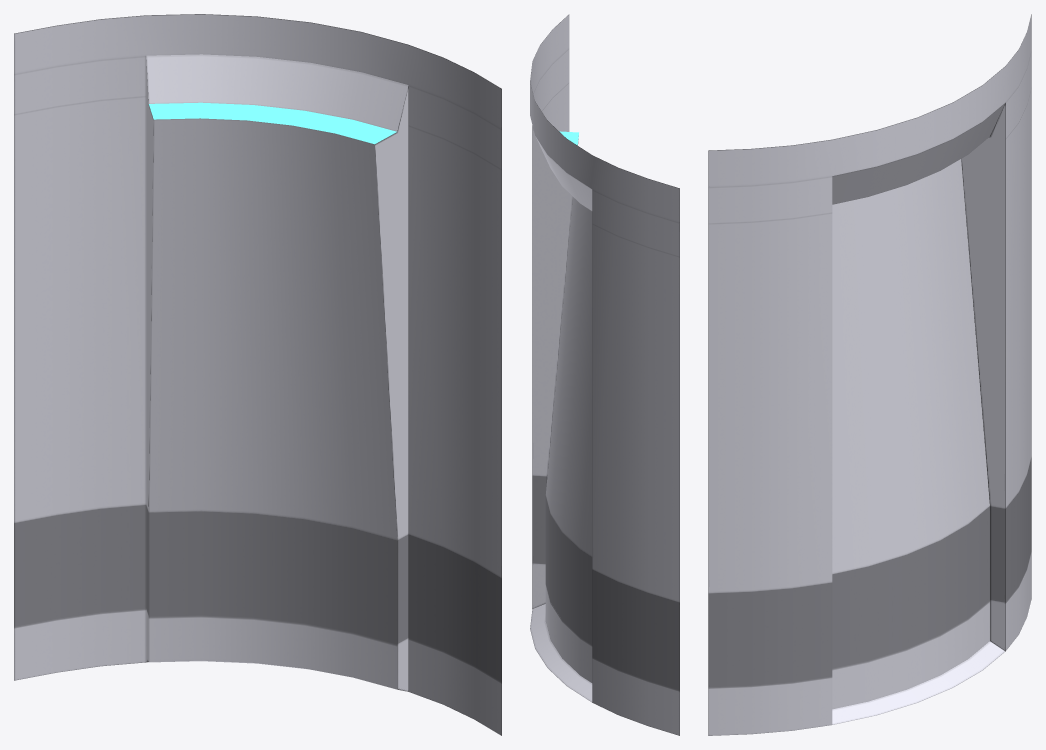
Rendered from Wall_HalfArc_90_02.FBX.
3 renders of one model, left to right at view 1: azimuth 30°, elevation 25°; view 2: azimuth 150°, elevation 25°; view 3: azimuth 270°, elevation 25°, orthographic. The views are drawn at different scales.
Visible parts, largest first — view 1: Wall_HalfArc_90_02; view 2: Wall_HalfArc_90_02; view 3: Wall_HalfArc_90_02.
Boxes of the visible parts, <box> form: Wall_HalfArc_90_02: <box>14,14,501,735</box>; Wall_HalfArc_90_02: <box>530,14,679,735</box>; Wall_HalfArc_90_02: <box>708,14,1031,735</box>.
Size of the model in its own units: 1.5 by 3 by 1.5.
2 materials, 1 textured.
